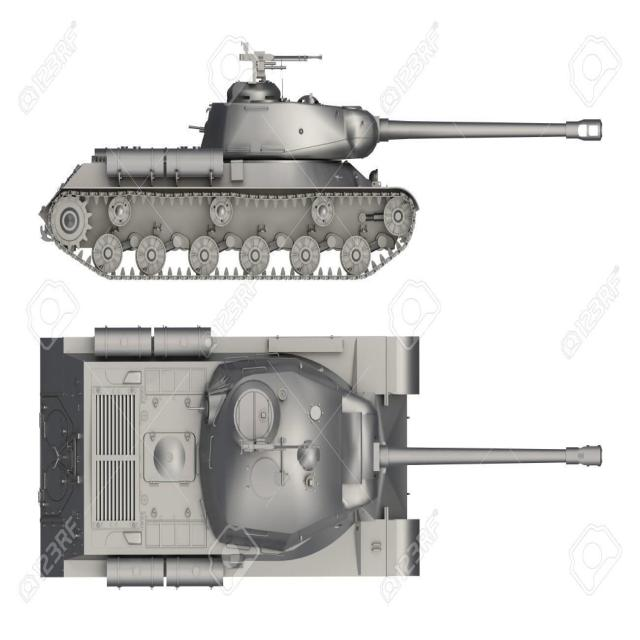Tanks: (26, 45, 614, 286), (37, 330, 603, 580)
